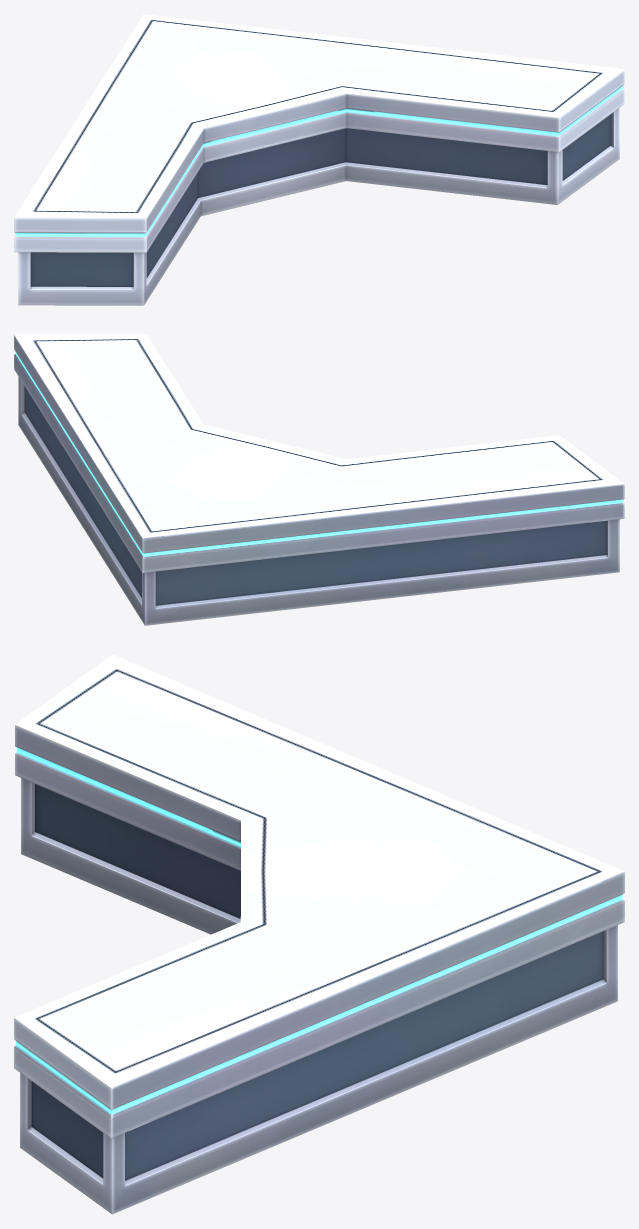
Rendered from obj_qtable.gltf.
The picture shows the model from 3 angles, top to bottom: view 1: azimuth 30°, elevation 25°; view 2: azimuth 150°, elevation 25°; view 3: azimuth 270°, elevation 25°; orthographic projection. The views are drawn at different scales.
Visible parts, largest first — view 1: obj_qtable; view 2: obj_qtable; view 3: obj_qtable.
Part boxes in pixels (x1,y1,x2,y2): obj_qtable: (14, 14, 624, 305); obj_qtable: (14, 334, 624, 625); obj_qtable: (14, 654, 624, 1214).
Size of what is drawn, in the model's own units: 5.26 by 0.7336 by 3.13.
1 material, 1 textured.
